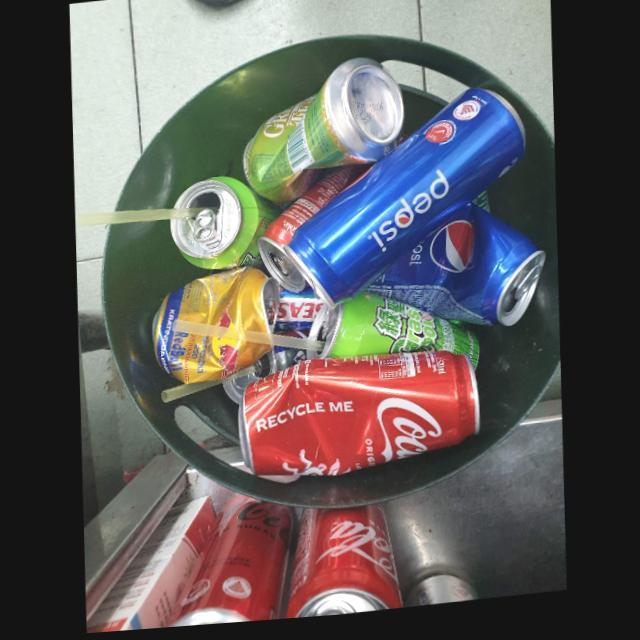metal: (282, 94, 525, 311), (238, 355, 479, 481), (243, 62, 405, 210), (364, 208, 546, 333), (165, 497, 293, 630), (257, 168, 375, 297), (151, 269, 280, 386), (306, 297, 480, 377), (286, 508, 405, 623), (170, 179, 282, 281), (222, 349, 307, 407), (276, 334, 309, 343)
